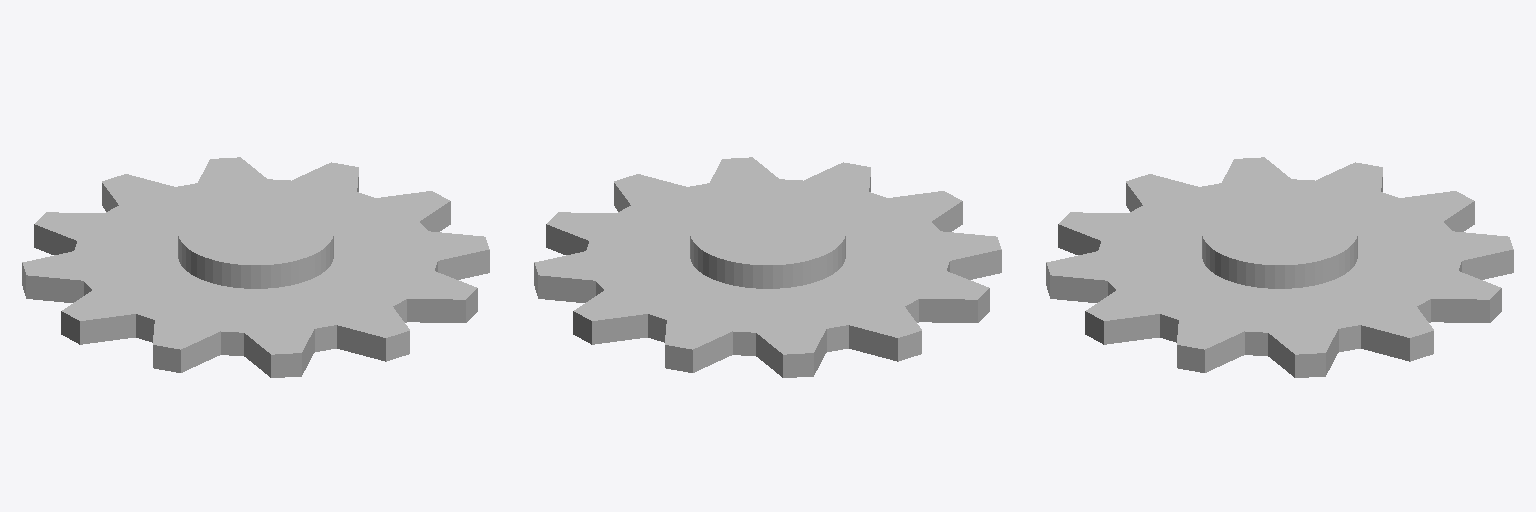
The model's file is wooden_cog.obj.
3 renders of one model, left to right at view 1: azimuth 30°, elevation 25°; view 2: azimuth 150°, elevation 25°; view 3: azimuth 270°, elevation 25°, orthographic.
Parts seen in each view (by area): view 1: Cylinder; view 2: Cylinder; view 3: Cylinder.
Boxes of the visible parts, x1=… form: Cylinder: x1=22, y1=157, x2=489, y2=377; Cylinder: x1=534, y1=157, x2=1001, y2=377; Cylinder: x1=1046, y1=157, x2=1513, y2=377.
Size of the model in its own units: 1.12 by 0.125 by 1.12.